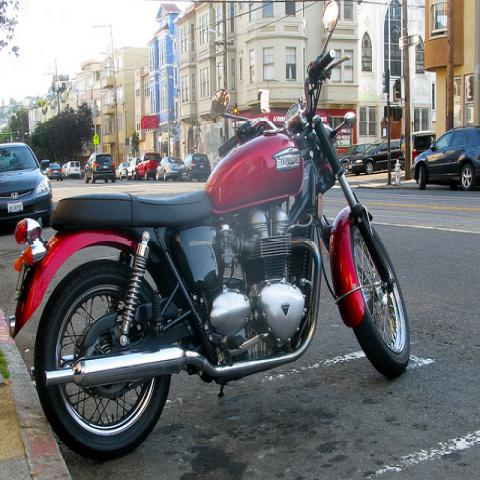car: (0, 140, 54, 232), (410, 125, 480, 192), (349, 140, 401, 174), (398, 130, 437, 172), (338, 141, 372, 175), (84, 152, 116, 183), (180, 153, 210, 182), (156, 157, 183, 181), (125, 156, 141, 181), (44, 162, 63, 182), (63, 161, 82, 179), (114, 162, 130, 181)
motorcycle: (4, 1, 419, 463)
truck: (136, 152, 161, 180)
